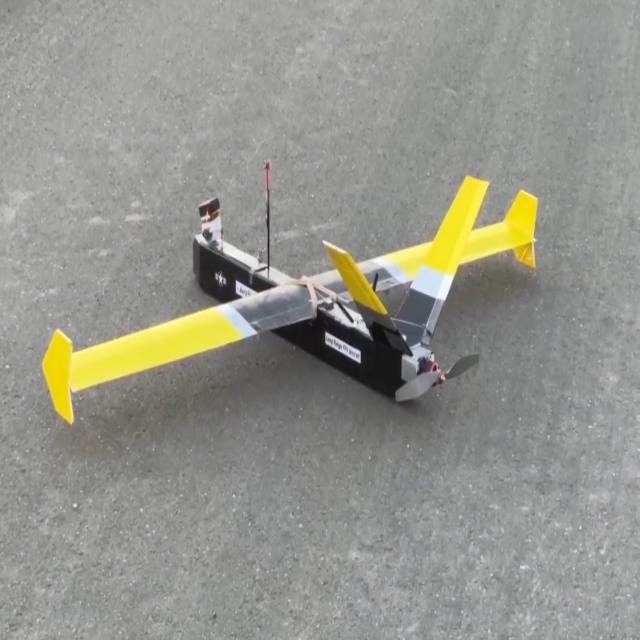iha: (43, 171, 536, 422)
